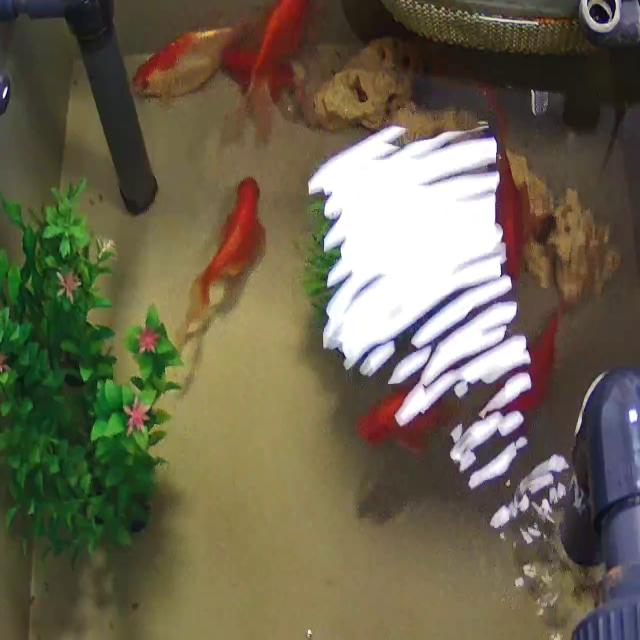fish: (188, 170, 267, 326), (487, 321, 582, 417), (251, 0, 325, 119), (484, 138, 539, 298), (134, 18, 238, 98), (345, 382, 452, 454)
